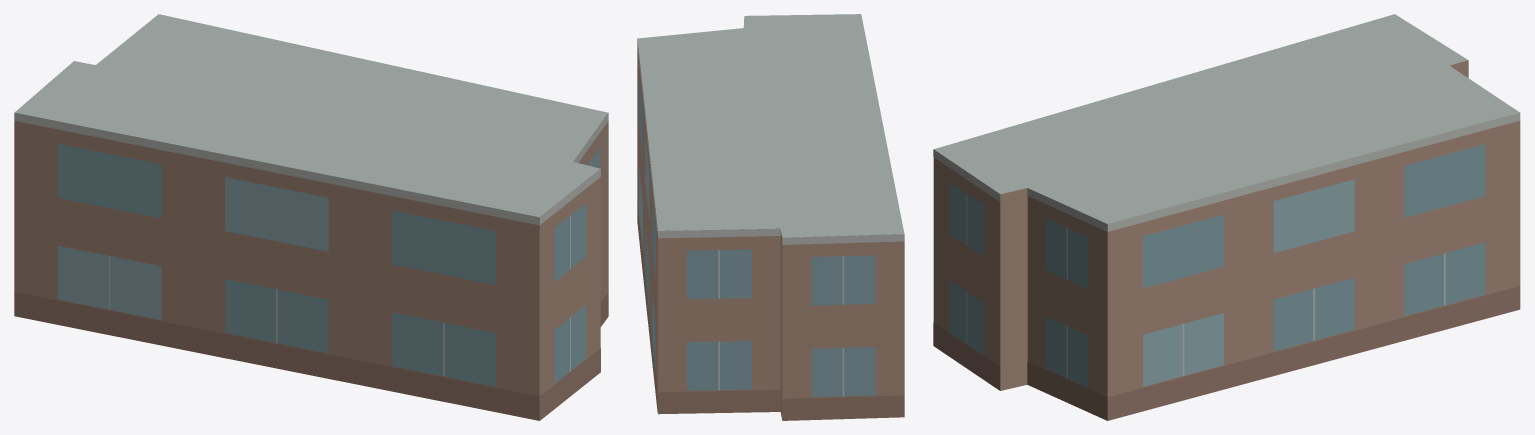
The model's file is survey-upis-32658931.glb.
3 renders of one model, left to right at view 1: azimuth 30°, elevation 25°; view 2: azimuth 150°, elevation 25°; view 3: azimuth 270°, elevation 25°, orthographic. The views are drawn at different scales.
Visible parts, largest first — view 1: survey-upis-32658931.tmp; view 2: survey-upis-32658931.tmp; view 3: survey-upis-32658931.tmp.
Part boxes in pixels (box(x1,y1,x2,y2)): survey-upis-32658931.tmp: box(14, 14, 608, 420); survey-upis-32658931.tmp: box(637, 14, 904, 420); survey-upis-32658931.tmp: box(933, 14, 1520, 420).
Size of the model in its own units: 13.98 by 6.1 by 16.5.
